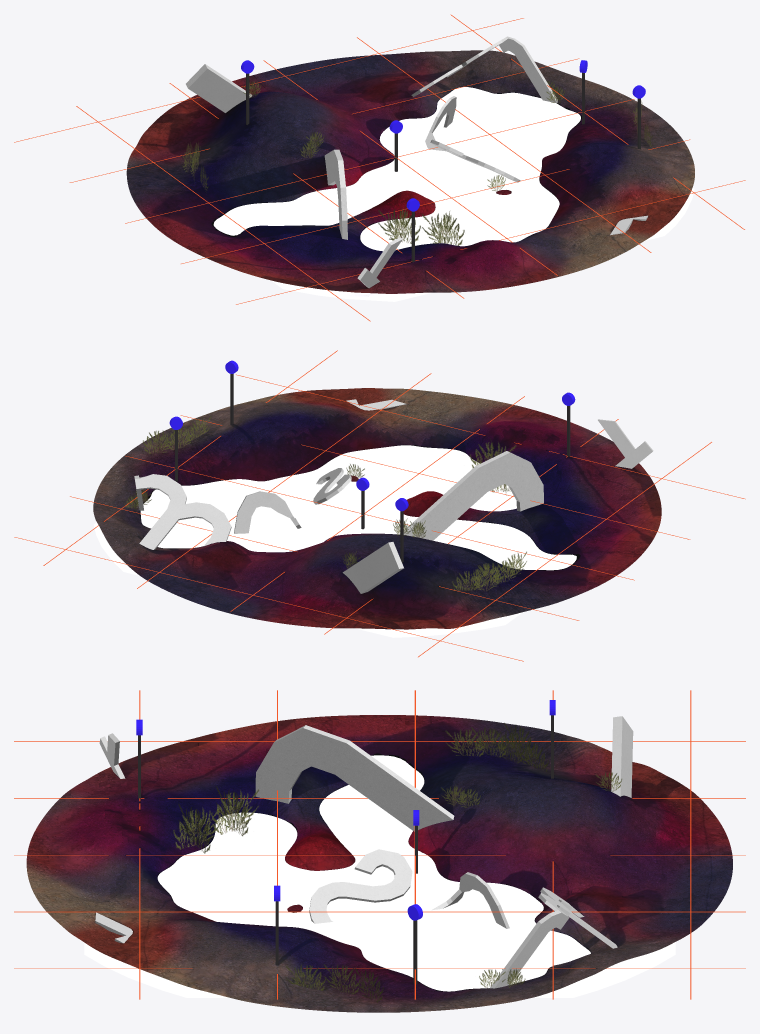
Rendered from Pole_terre.gltf.
3 views of the same model, one above another, from view 1: azimuth 30°, elevation 25°; view 2: azimuth 150°, elevation 25°; view 3: azimuth 270°, elevation 25° (orthographic). The views are drawn at different scales.
Parts seen in each view (by area): view 1: Landscape.005, Landscape_plane.001, Filet.001, Filet, Enquete.002, Enquete.003, Diplomatie.002, Territoire.001, Sensibilite.002, Bush_Branch_qiegX2_atlas_Preview.014, Bush_Branch_qiegX2_atlas_Preview.011; view 2: Landscape.005, Landscape_plane.001, Diplomatie.002, Enquete.003, Filet.001, Territoire.001, Filet, Enquete.002, Sensibilite.002; view 3: Landscape.005, Landscape_plane.001, Diplomatie.002, Territoire.001, Filet, Enquete.003, Filet.001, Enquete.002, Bush_Branch_qiegX2_atlas_Preview.011, Bush_Branch_qiegX2_atlas_Preview.014, Bush_Branch_qiegX2_atlas_Preview.008, Sensibilite.002 (+2 smaller).
Part boxes in pixels (x1,y1,x2,y2): Landscape.005: [126, 50, 694, 293]; Landscape_plane.001: [213, 87, 694, 301]; Filet.001: [14, 18, 745, 304]; Filet: [76, 14, 744, 321]; Enquete.002: [186, 64, 252, 112]; Enquete.003: [411, 36, 557, 102]; Diplomatie.002: [324, 149, 347, 239]; Territoire.001: [425, 96, 520, 182]; Sensibilite.002: [357, 237, 402, 288]; Bush_Branch_qiegX2_atlas_Preview.014: [422, 213, 464, 245]; Bush_Branch_qiegX2_atlas_Preview.011: [378, 209, 420, 243]; Landscape.005: [93, 388, 661, 629]; Landscape_plane.001: [94, 445, 576, 637]; Diplomatie.002: [399, 451, 543, 540]; Enquete.003: [134, 474, 231, 549]; Filet.001: [14, 374, 745, 661]; Territoire.001: [234, 468, 351, 533]; Filet: [43, 350, 711, 657]; Enquete.002: [342, 542, 403, 593]; Sensibilite.002: [598, 419, 653, 468]; Landscape.005: [26, 715, 732, 1012]; Landscape_plane.001: [84, 755, 675, 997]; Diplomatie.002: [255, 725, 454, 831]; Territoire.001: [309, 849, 509, 928]; Filet: [14, 741, 745, 968]; Enquete.003: [490, 887, 617, 988]; Filet.001: [139, 690, 691, 999]; Enquete.002: [611, 716, 633, 797]; Bush_Branch_qiegX2_atlas_Preview.011: [211, 789, 259, 834]; Bush_Branch_qiegX2_atlas_Preview.014: [173, 806, 221, 849]; Bush_Branch_qiegX2_atlas_Preview.008: [216, 786, 249, 836]; Sensibilite.002: [99, 733, 125, 778].
Bounding box in the file's own units: 2.1 × 0.4873 × 2.07.
Materials: 8 (7 with a texture image).
